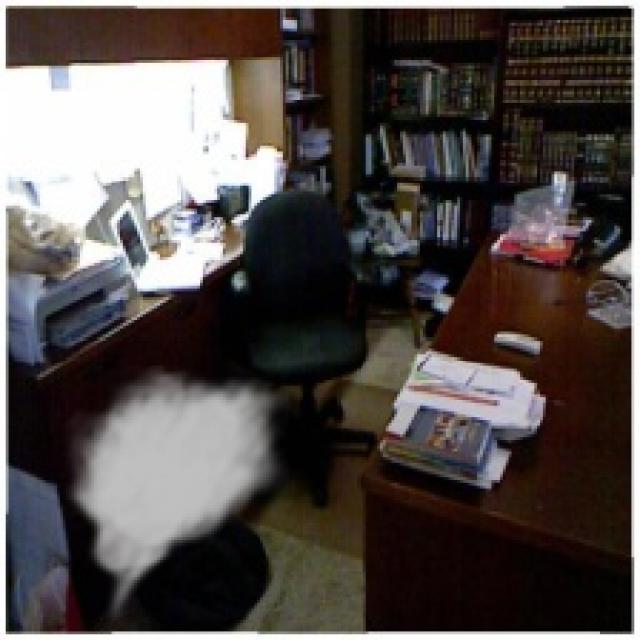smoke: (63, 366, 291, 626)
